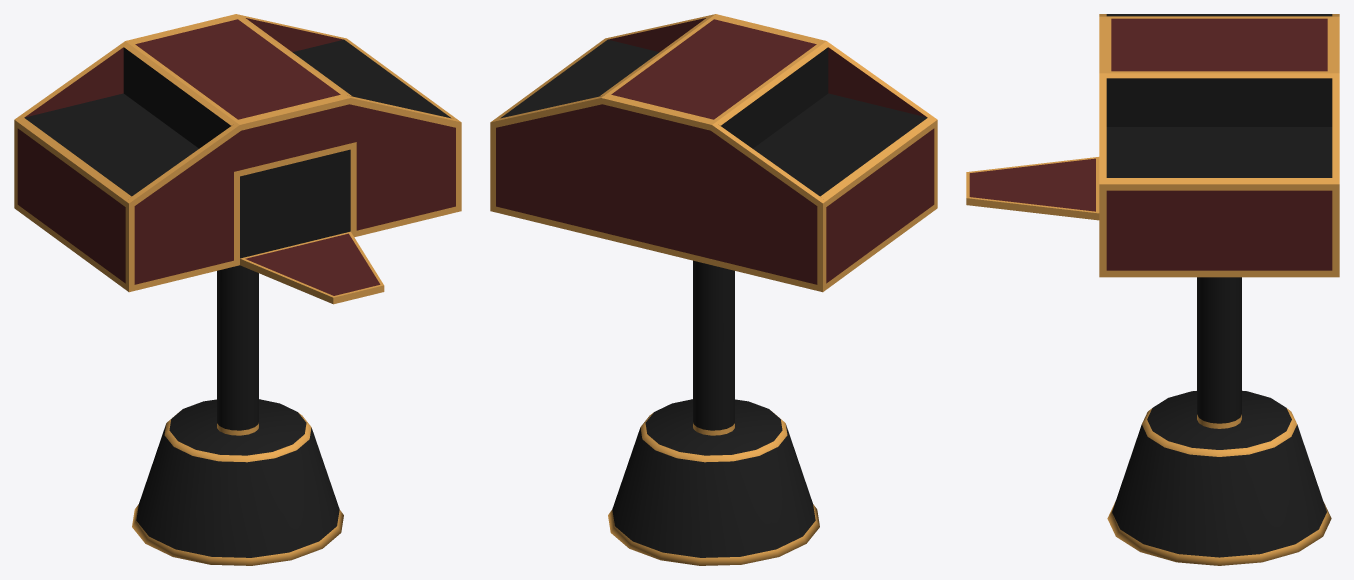
File: shuffler 2.fbx
3 views of the same model, side by side, from view 1: azimuth 30°, elevation 25°; view 2: azimuth 150°, elevation 25°; view 3: azimuth 270°, elevation 25° (orthographic). The views are drawn at different scales.
Parts seen in each view (by area): view 1: shuffler 2; view 2: shuffler 2; view 3: shuffler 2.
Part boxes in pixels (x1,y1,x2,y2): shuffler 2: [14, 14, 461, 565]; shuffler 2: [490, 14, 937, 565]; shuffler 2: [966, 14, 1339, 565].
Size of the model in its own units: 82.01 by 106 by 76.08.
